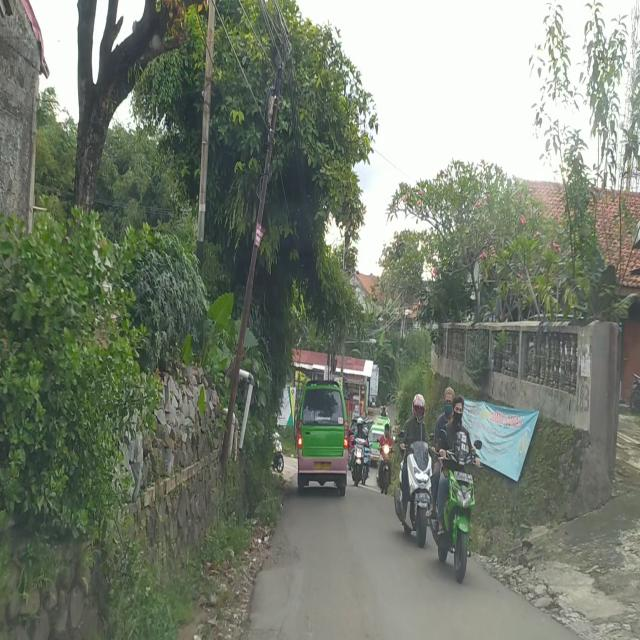Drain Hole: (267, 531, 304, 572)
